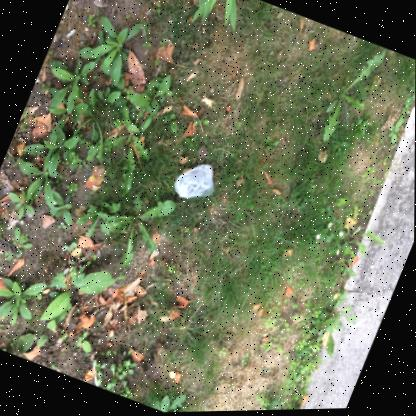Plastic: (173, 164, 213, 198)
